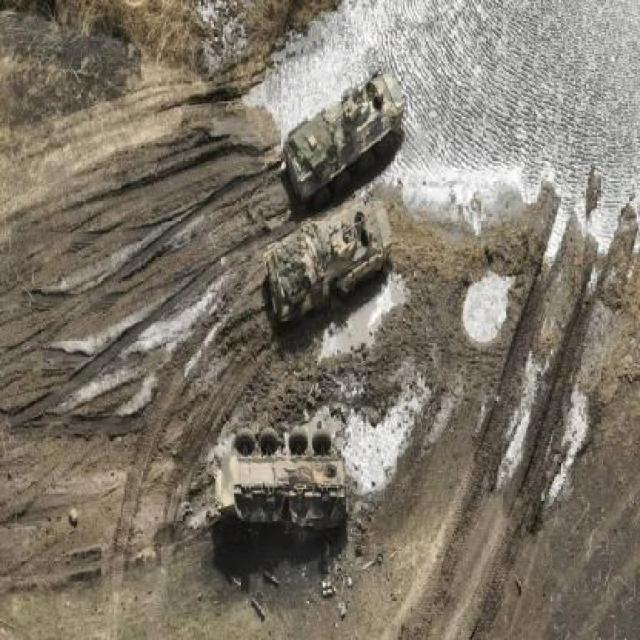Tanks: (281, 58, 405, 202), (263, 198, 394, 324)
